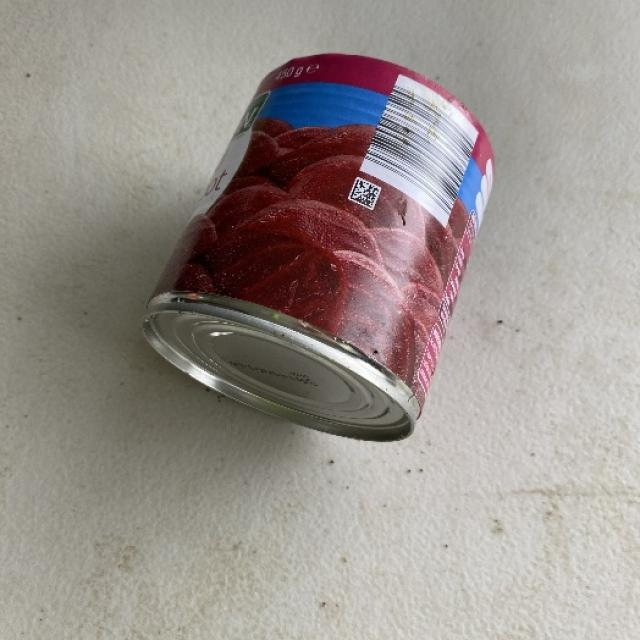metal: (140, 51, 494, 441)
